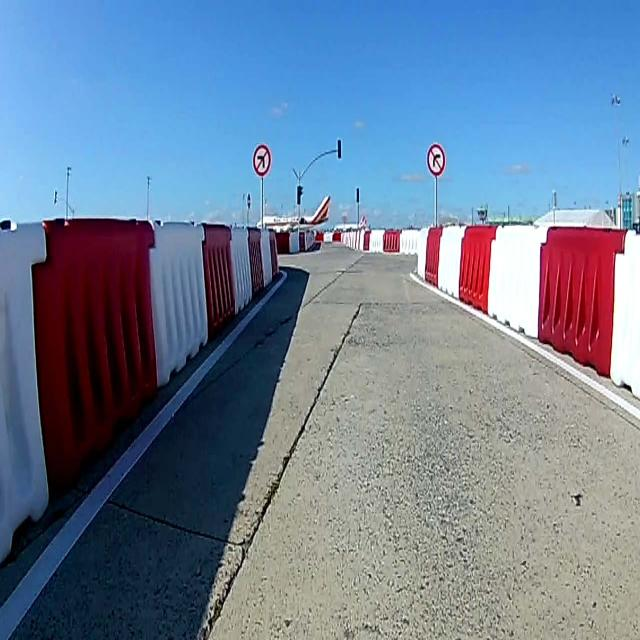sagadonulmez: (428, 142, 445, 174)
soladonulmez: (254, 144, 271, 175)
